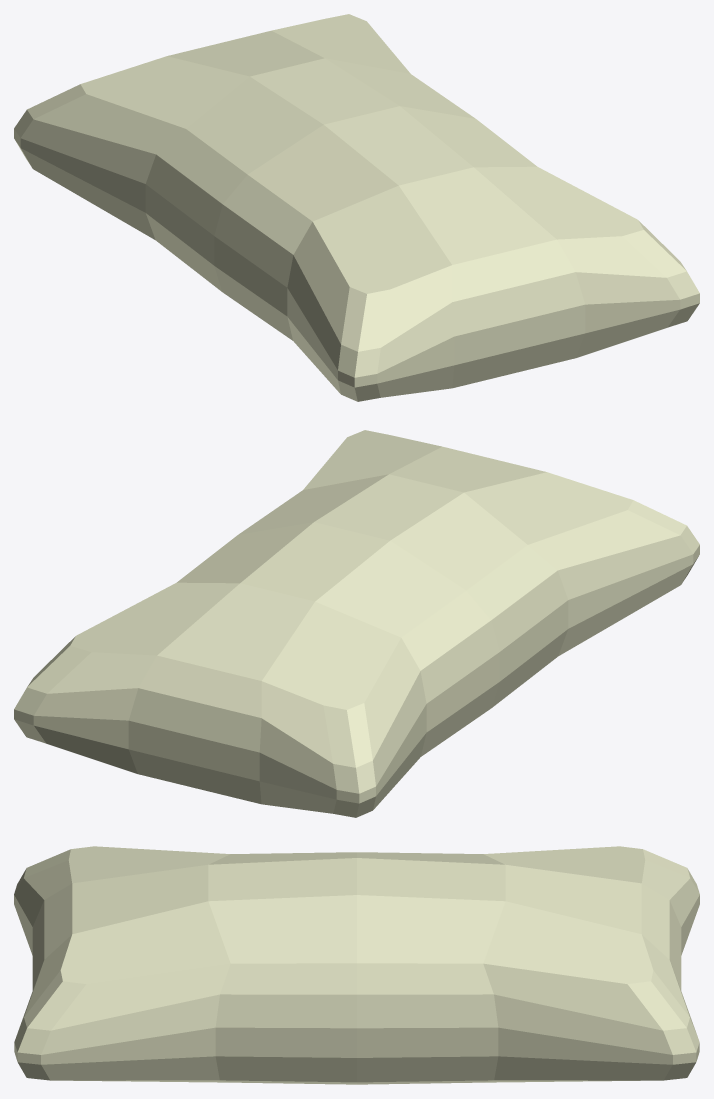
The model's file is Pillow.fbx.
The picture shows the model from 3 angles, top to bottom: view 1: azimuth 30°, elevation 25°; view 2: azimuth 150°, elevation 25°; view 3: azimuth 270°, elevation 25°; orthographic projection.
Parts seen in each view (by area): view 1: Cube.001; view 2: Cube.001; view 3: Cube.001.
Boxes of the visible parts, x1,y1,x2,y2 form: Cube.001: [14, 14, 699, 401]; Cube.001: [14, 430, 699, 817]; Cube.001: [14, 846, 699, 1084].
Size of the model in its own units: 172 by 71.31 by 287.
